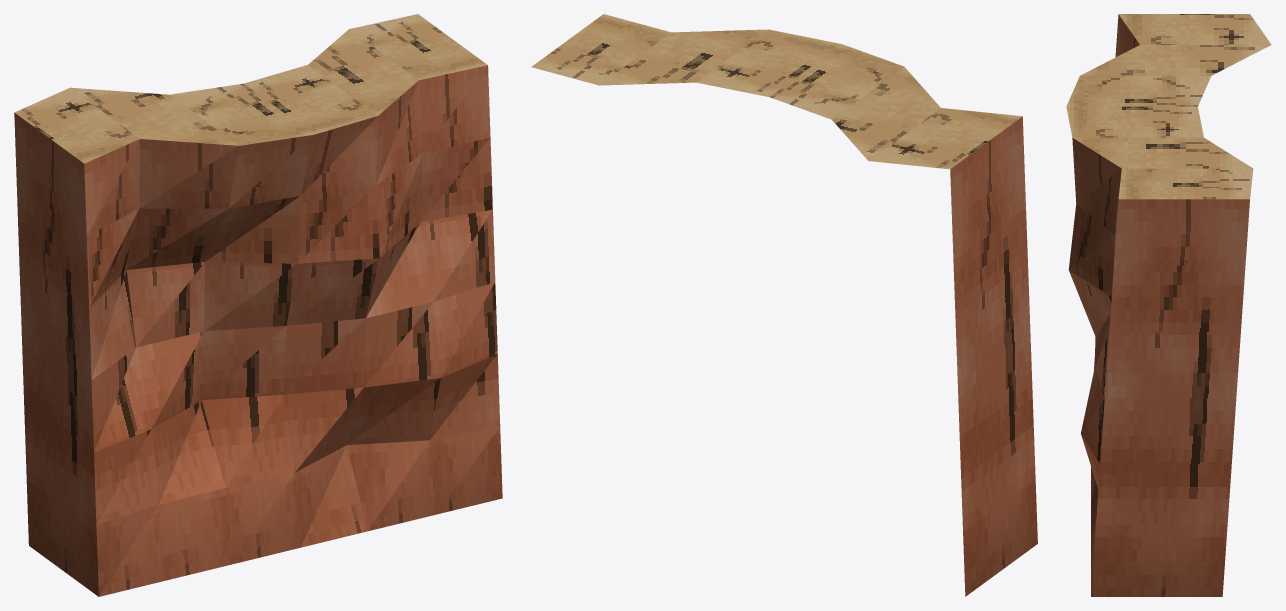
The model's file is cliff_mesa.glb.
3 renders of one model, left to right at view 1: azimuth 30°, elevation 25°; view 2: azimuth 150°, elevation 25°; view 3: azimuth 270°, elevation 25°, orthographic. The views are drawn at different scales.
Visible parts, largest first — view 1: cliff_mesa; view 2: cliff_mesa; view 3: cliff_mesa.
Boxes of the visible parts, box(x1,y1,x2,y2) form: cliff_mesa: box(14, 14, 502, 596); cliff_mesa: box(531, 14, 1037, 596); cliff_mesa: box(1066, 14, 1271, 596).
Bounding box in the file's own units: 4 × 4 × 1.87.
Materials: 1 (1 with a texture image).
